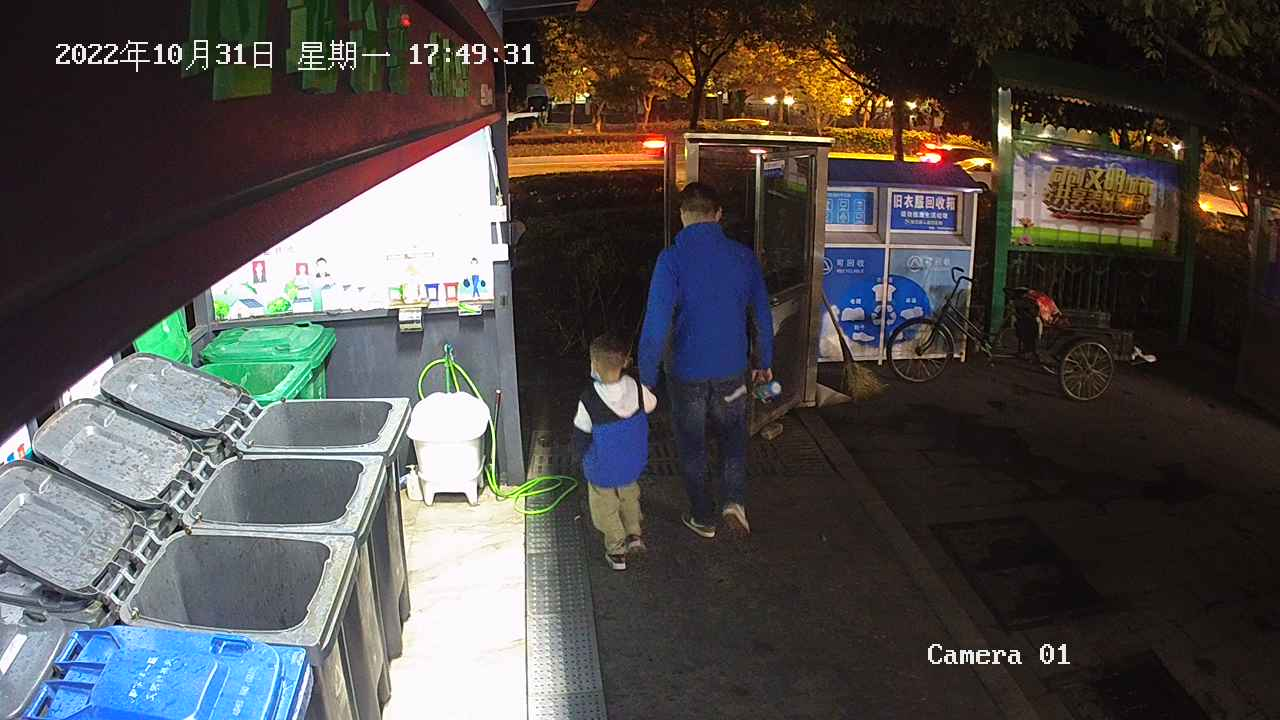person: (570, 330, 658, 574)
worker: (636, 180, 775, 540)
